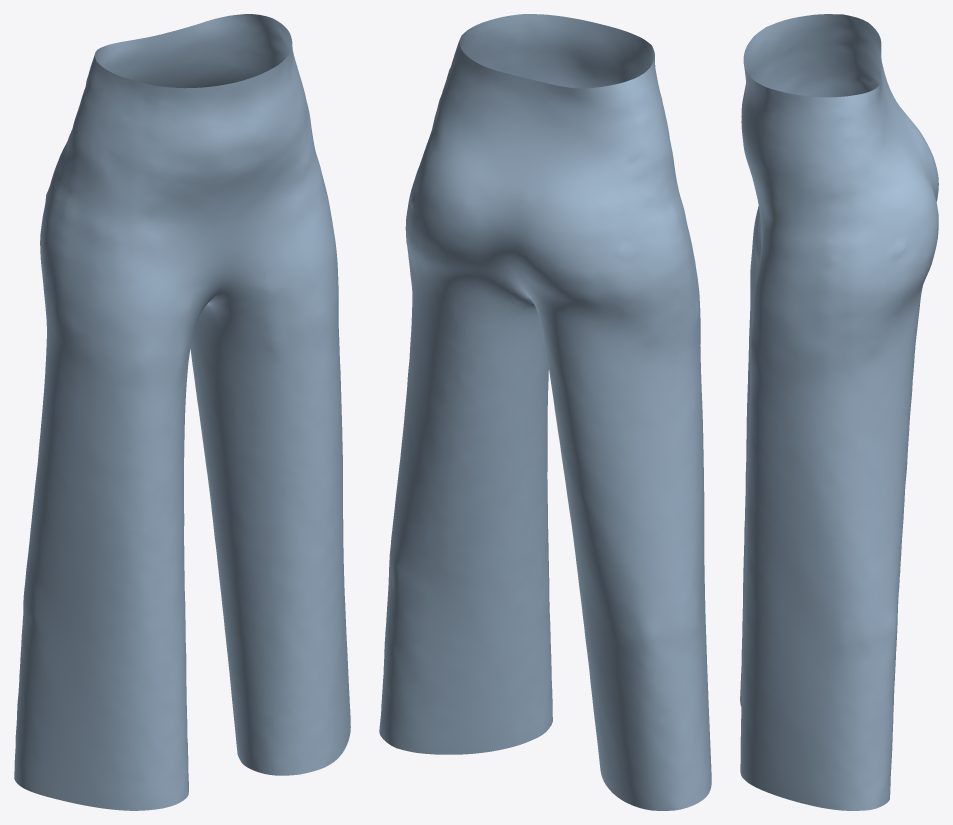
The model's file is trousers_M.glb.
3 renders of one model, left to right at view 1: azimuth 30°, elevation 25°; view 2: azimuth 150°, elevation 25°; view 3: azimuth 270°, elevation 25°, orthographic. The views are drawn at different scales.
Parts seen in each view (by area): view 1: geometry_0; view 2: geometry_0; view 3: geometry_0.
Boxes of the visible parts, left/top/right/bottom form: geometry_0: left=14, top=14, right=350, bottom=810; geometry_0: left=379, top=14, right=711, bottom=810; geometry_0: left=740, top=14, right=938, bottom=810.
Size of the model in its own units: 0.4706 by 1 by 0.2636.
